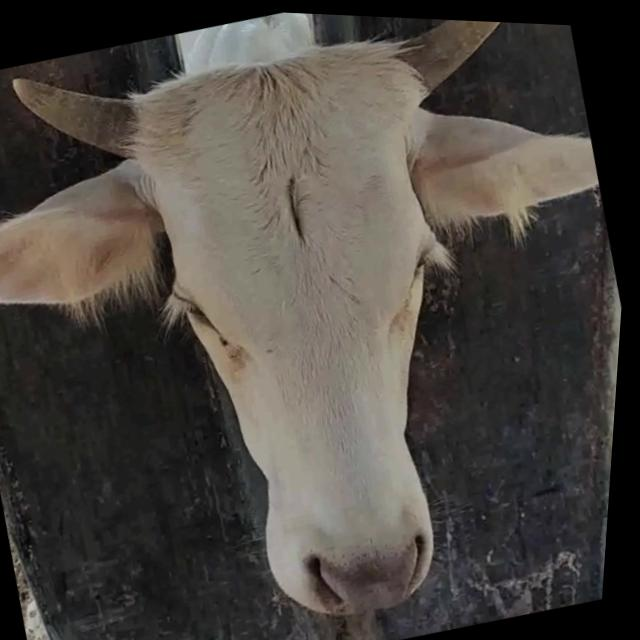cowFace: (105, 16, 541, 640)
